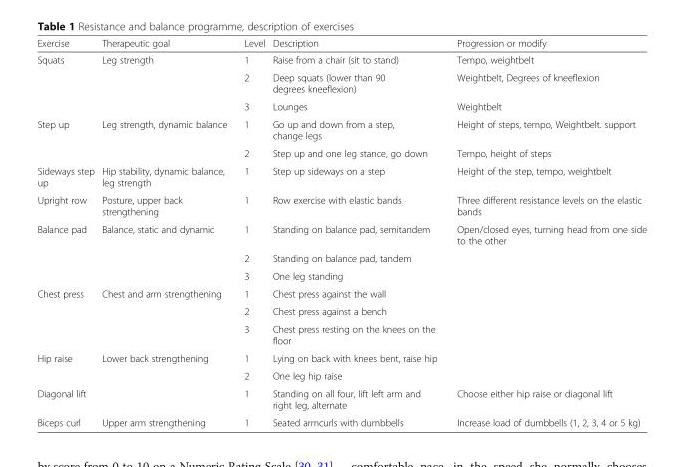table: (36, 37, 646, 427)
table column: (446, 37, 646, 427), (268, 37, 446, 427), (97, 37, 234, 427), (36, 37, 97, 427), (234, 37, 268, 427)
table column header: (36, 37, 646, 51)
table row: (36, 219, 646, 249), (36, 68, 646, 97), (36, 115, 646, 144), (36, 161, 646, 190), (36, 190, 646, 219), (36, 319, 646, 348), (36, 384, 646, 413), (36, 97, 646, 115), (36, 266, 646, 284), (36, 284, 646, 302), (36, 348, 646, 366), (36, 366, 646, 384), (36, 51, 646, 68), (36, 144, 646, 161), (36, 249, 646, 266), (36, 302, 646, 319), (36, 37, 646, 51), (36, 413, 646, 427)
table spanning cell: (36, 219, 97, 284), (36, 51, 97, 115), (36, 284, 97, 348), (36, 115, 97, 161), (36, 348, 97, 384)
